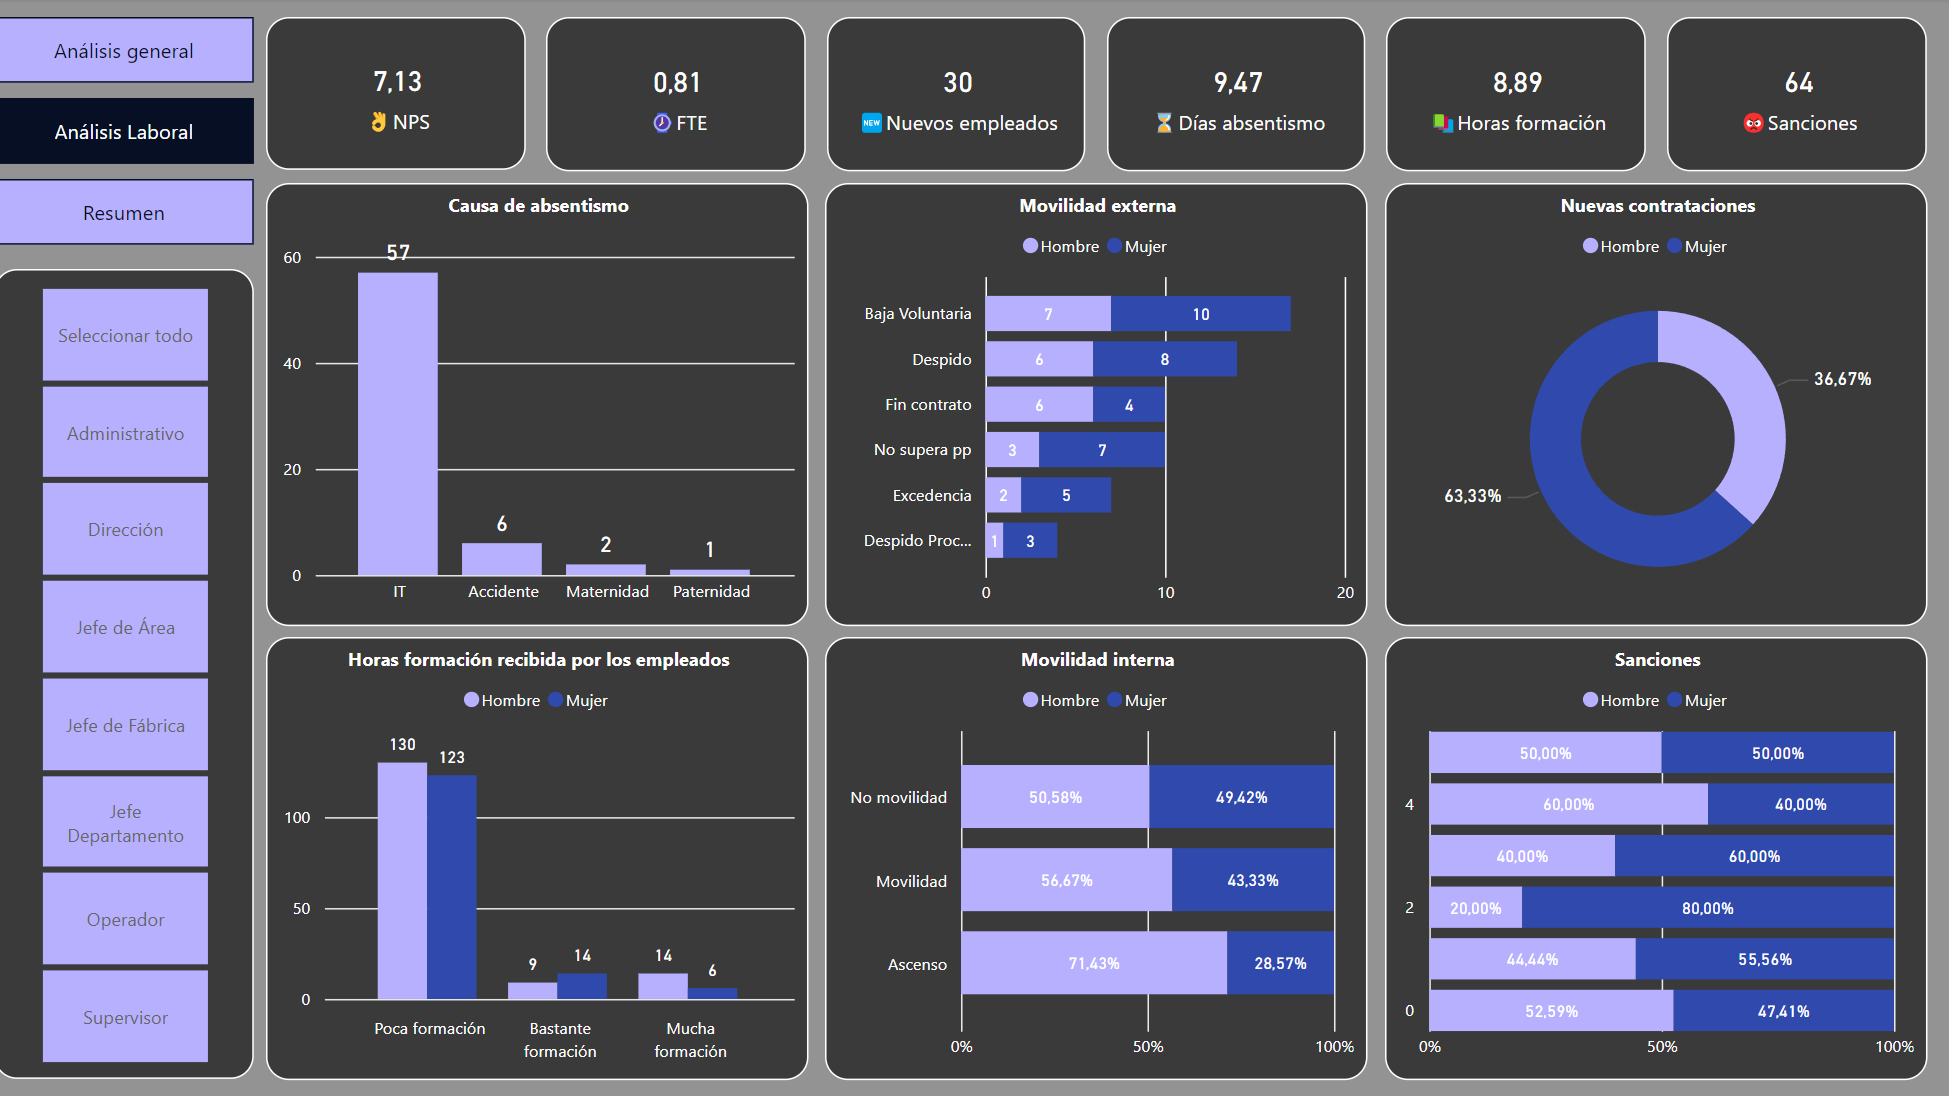

What the dashboard file says about the page in this screenshot:
{"tool":"powerbi","page":{"name":"Análisis Laboral","canvas":[1280,720],"ordinal":1},"visuals":[{"type":"columnChart","title":"Causa de absentismo","fields":{"Category":["Tabla_datos.Causa Abs"],"Y":["Dax Medidas.Num empleados"]},"box":[178.1,120.2,355.1,289.5],"z":0},{"type":"barChart","title":"Movilidad externa","fields":{"Category":["Tabla_datos. Motivo Rotación"],"Y":["Dax Medidas.Num empleados"],"Series":["Tabla_datos.Sexo"]},"box":[544.1,120.2,355.1,289.5],"z":1000},{"type":"slicer","fields":{"Values":["Tabla_datos.Categoría laboral"]},"box":[0,177,170.4,529.9],"z":2000},{"type":"donutChart","title":"Nuevas contrataciones","fields":{"Y":["Sum(Tabla_datos.Nuevas contrataciones 2020)"],"Series":["Tabla_datos.Sexo"]},"box":[910.1,120.2,355.1,289.5],"z":3000},{"type":"card","fields":{"Values":["Sum(Tabla_datos.Nuevas contrataciones 2020)"]},"box":[545.4,12,169.3,100.5],"z":4000},{"type":"card","fields":{"Values":["Avg(Tabla_datos.Días de Trabajo Perdido (Abs))"]},"box":[728.1,12,169.3,100.5],"z":5000},{"type":"card","fields":{"Values":["Avg(Tabla_datos.Horas de formación recibidas)"]},"box":[910.9,12,170.4,100.5],"z":6000},{"type":"card","fields":{"Values":["Avg(Tabla_datos.NPS)"]},"box":[178.1,12,170,100],"z":7000},{"type":"clusteredColumnChart","title":"Horas formación recibida por los empleados","fields":{"Category":["Tabla_datos.Rango horas formación"],"Y":["Dax Medidas.Num empleados"],"Series":["Tabla_datos.Sexo"]},"box":[178.1,417.4,355.1,289.5],"z":8000},{"type":"card","fields":{"Values":["Sum(Tabla_datos.Neglicencias/Sanciones)"]},"box":[1094.7,12,170.4,100.5],"z":9000},{"type":"hundredPercentStackedBarChart","title":"Sanciones ","fields":{"Category":["Tabla_datos.Neglicencias/Sanciones"],"Y":["Dax Medidas.Num empleados"],"Series":["Tabla_datos.Sexo"]},"box":[910.1,417.4,355.1,289.5],"z":10000},{"type":"card","fields":{"Values":["Avg(Tabla_datos.FTE)"]},"box":[361.5,12,170.4,100.5],"z":11000},{"type":"pageNavigator","box":[0,12,170,150],"z":12000},{"type":"hundredPercentStackedBarChart","title":"Movilidad interna","fields":{"Category":["Tabla_datos.Motivo Rotación Interna"],"Y":["Dax Medidas.Num empleados"],"Series":["Tabla_datos.Sexo"]},"box":[544.1,417.4,355.1,289.5],"z":13000}]}

Visuals, with their boxes on the page's 1280x720 design canvas (x1, y1, x2, y2). These are canvas units, not pixel positions in the 1949x1096 screenshot, which may show the page scaled, cropped or inside an application window:
"Causa de absentismo" columnChart: region(178, 120, 533, 410)
"Movilidad externa" barChart: region(544, 120, 899, 410)
slicer - Tabla_datos.Categoría laboral: region(0, 177, 170, 707)
"Nuevas contrataciones" donutChart: region(910, 120, 1265, 410)
card - Sum(Tabla_datos.Nuevas contrataciones 2020): region(545, 12, 715, 112)
card - Avg(Tabla_datos.Días de Trabajo Perdido (Abs)): region(728, 12, 897, 112)
card - Avg(Tabla_datos.Horas de formación recibidas): region(911, 12, 1081, 112)
card - Avg(Tabla_datos.NPS): region(178, 12, 348, 112)
"Horas formación recibida por los empleados" clusteredColumnChart: region(178, 417, 533, 707)
card - Sum(Tabla_datos.Neglicencias/Sanciones): region(1095, 12, 1265, 112)
"Sanciones " hundredPercentStackedBarChart: region(910, 417, 1265, 707)
card - Avg(Tabla_datos.FTE): region(362, 12, 532, 112)
pageNavigator: region(0, 12, 170, 162)
"Movilidad interna" hundredPercentStackedBarChart: region(544, 417, 899, 707)
